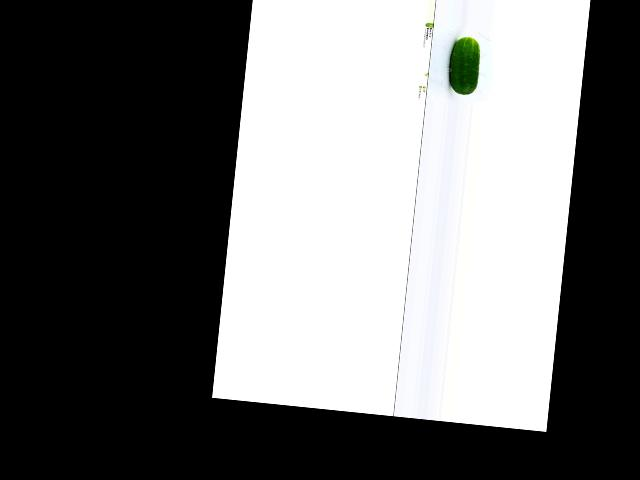cucumber: (446, 36, 481, 96)
